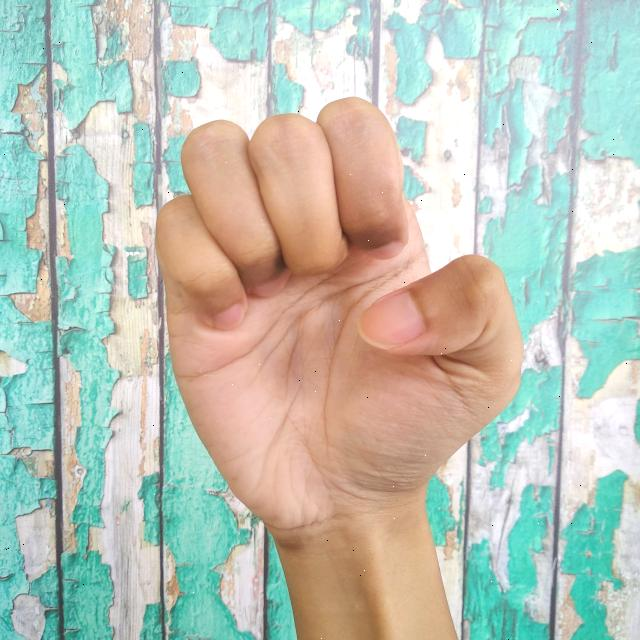E: (153, 97, 524, 640)
